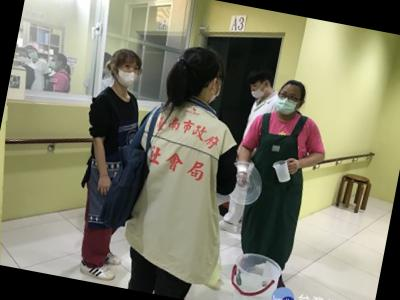mask_weared_incorrect: (248, 81, 268, 100)
with_mask: (112, 59, 143, 89), (275, 88, 302, 117), (204, 70, 225, 106), (14, 51, 29, 66), (49, 58, 62, 73), (27, 49, 41, 61)
